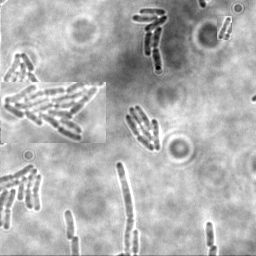Dividing: (114, 161, 133, 255), (204, 221, 215, 248)
Microcolony: (1, 82, 106, 143), (1, 162, 44, 231), (130, 8, 167, 72), (124, 106, 160, 153), (63, 208, 74, 240)
Rod: (217, 16, 232, 40)
